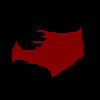mutande: (12, 26, 84, 77)
